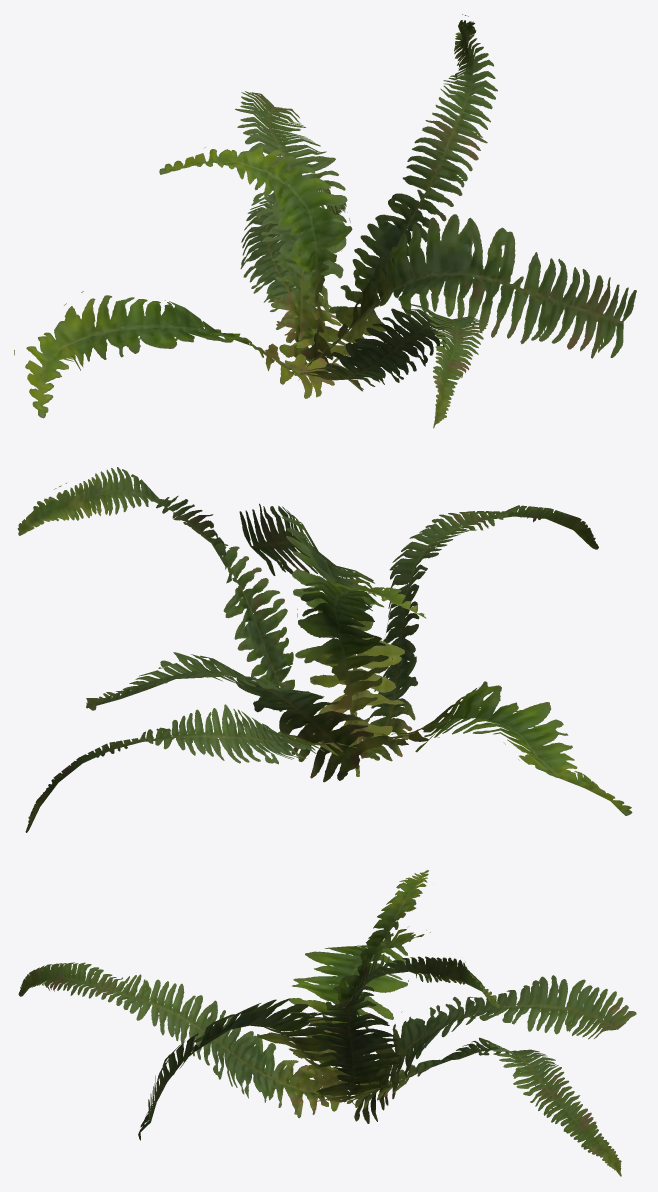
File: forest-fern.glb
3 renders of one model, top to bottom at view 1: azimuth 30°, elevation 25°; view 2: azimuth 150°, elevation 25°; view 3: azimuth 270°, elevation 25°, orthographic. The views are drawn at different scales.
Visible parts, largest first — view 1: fern_02_a; view 2: fern_02_a; view 3: fern_02_a.
Boxes of the visible parts, x1,y1,x2,y2 form: fern_02_a: [14, 14, 636, 428]; fern_02_a: [17, 467, 632, 832]; fern_02_a: [18, 870, 636, 1176].
Bounding box in the file's own units: 0.5519 × 0.2868 × 0.6134.
Materials: 1 (1 with a texture image).
